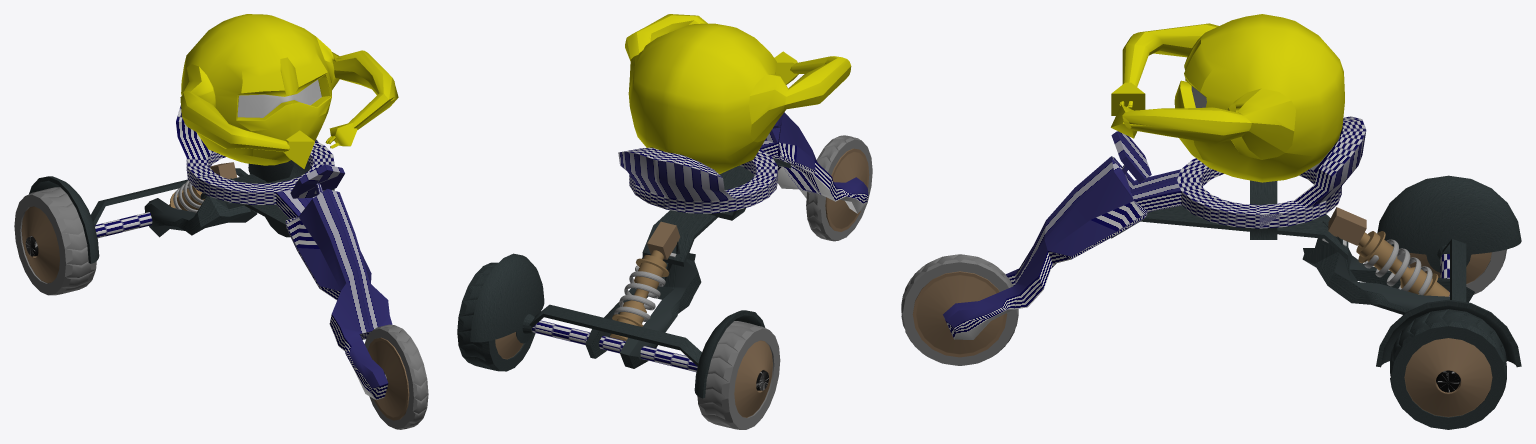
File: EnemyGround.fbx
The picture shows the model from 3 angles, left to right: view 1: azimuth 30°, elevation 25°; view 2: azimuth 150°, elevation 25°; view 3: azimuth 270°, elevation 25°; orthographic projection. The views are drawn at different scales.
Visible parts, largest first — view 1: polySurface49, polySurface21, polySurface31, polySurface20, polySurface25, polySurface19, polySurface32, polySurface40, polySurface29, polySurface28, polySurface35, polySurface41 (+4 smaller); view 2: polySurface49, polySurface21, polySurface30, polySurface31, polySurface25, polySurface33, polySurface29, polySurface20, polySurface35, polySurface32, polySurface28, polySurface19 (+6 smaller); view 3: polySurface49, polySurface21, polySurface40, polySurface33, polySurface34, polySurface19, polySurface25, polySurface20, polySurface30, polySurface35, polySurface27, polySurface26 (+6 smaller).
Boxes of the visible parts, bbox=[...] form: polySurface49: bbox=[180, 14, 398, 165]; polySurface21: bbox=[176, 105, 392, 400]; polySurface31: bbox=[14, 187, 96, 295]; polySurface20: bbox=[364, 324, 428, 429]; polySurface25: bbox=[144, 178, 257, 237]; polySurface19: bbox=[367, 337, 409, 420]; polySurface32: bbox=[21, 206, 59, 283]; polySurface40: bbox=[29, 176, 99, 263]; polySurface29: bbox=[90, 168, 248, 226]; polySurface28: bbox=[95, 212, 152, 238]; polySurface35: bbox=[200, 174, 289, 228]; polySurface41: bbox=[283, 130, 314, 168]; polySurface49: bbox=[625, 14, 851, 174]; polySurface21: bbox=[618, 112, 868, 213]; polySurface30: bbox=[470, 253, 544, 343]; polySurface31: bbox=[697, 321, 780, 429]; polySurface25: bbox=[585, 241, 701, 368]; polySurface33: bbox=[457, 262, 535, 371]; polySurface29: bbox=[529, 304, 701, 366]; polySurface20: bbox=[806, 135, 872, 241]; polySurface35: bbox=[642, 158, 790, 266]; polySurface32: bbox=[734, 340, 772, 417]; polySurface28: bbox=[532, 320, 697, 371]; polySurface19: bbox=[825, 148, 869, 231]; polySurface49: bbox=[1122, 14, 1344, 182]; polySurface21: bbox=[943, 116, 1366, 339]; polySurface40: bbox=[1377, 175, 1521, 272]; polySurface33: bbox=[1390, 309, 1506, 429]; polySurface34: bbox=[1404, 338, 1492, 417]; polySurface19: bbox=[912, 271, 1007, 357]; polySurface25: bbox=[1302, 221, 1474, 314]; polySurface20: bbox=[901, 254, 1018, 365]; polySurface30: bbox=[1376, 299, 1521, 367]; polySurface35: bbox=[1111, 205, 1348, 260]; polySurface27: bbox=[1356, 231, 1449, 296]; polySurface26: bbox=[1364, 239, 1432, 295].
Size of the model in its own units: 20.63 by 20.83 by 34.58.
